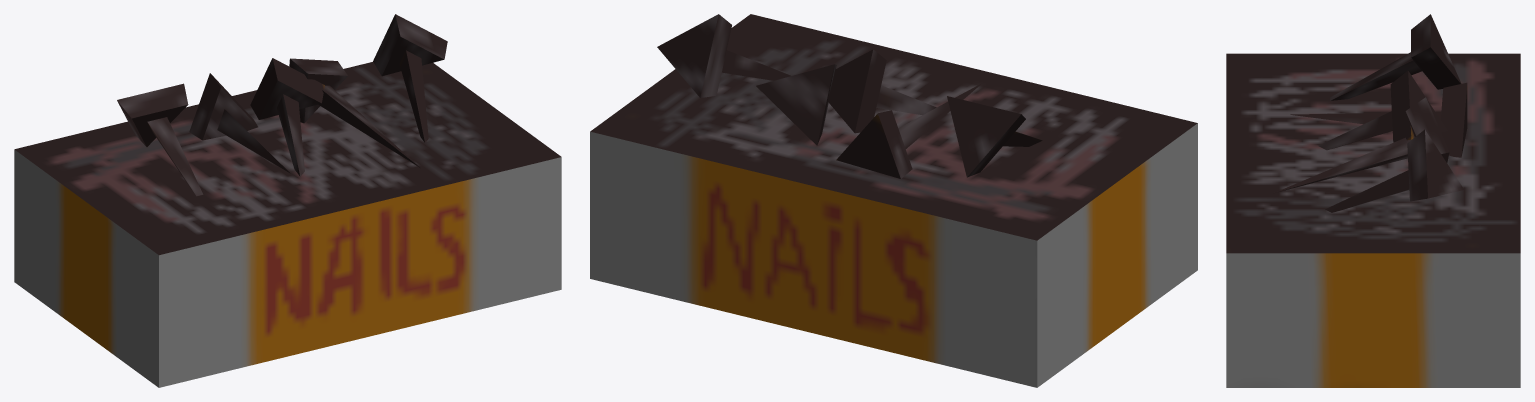
Rendered from Mesh_Nails.fbx.
The picture shows the model from 3 angles, left to right: view 1: azimuth 30°, elevation 25°; view 2: azimuth 150°, elevation 25°; view 3: azimuth 270°, elevation 25°; orthographic projection. The views are drawn at different scales.
Visible parts, largest first — view 1: Cube; view 2: Cube; view 3: Cube.
Boxes of the visible parts, x1,y1,x2,y2 form: Cube: (14,14,561,387); Cube: (590,14,1197,387); Cube: (1226,14,1520,387).
Size of the model in its own units: 0.6 by 0.3145 by 0.3735.
Materials: 1 (1 with a texture image).
